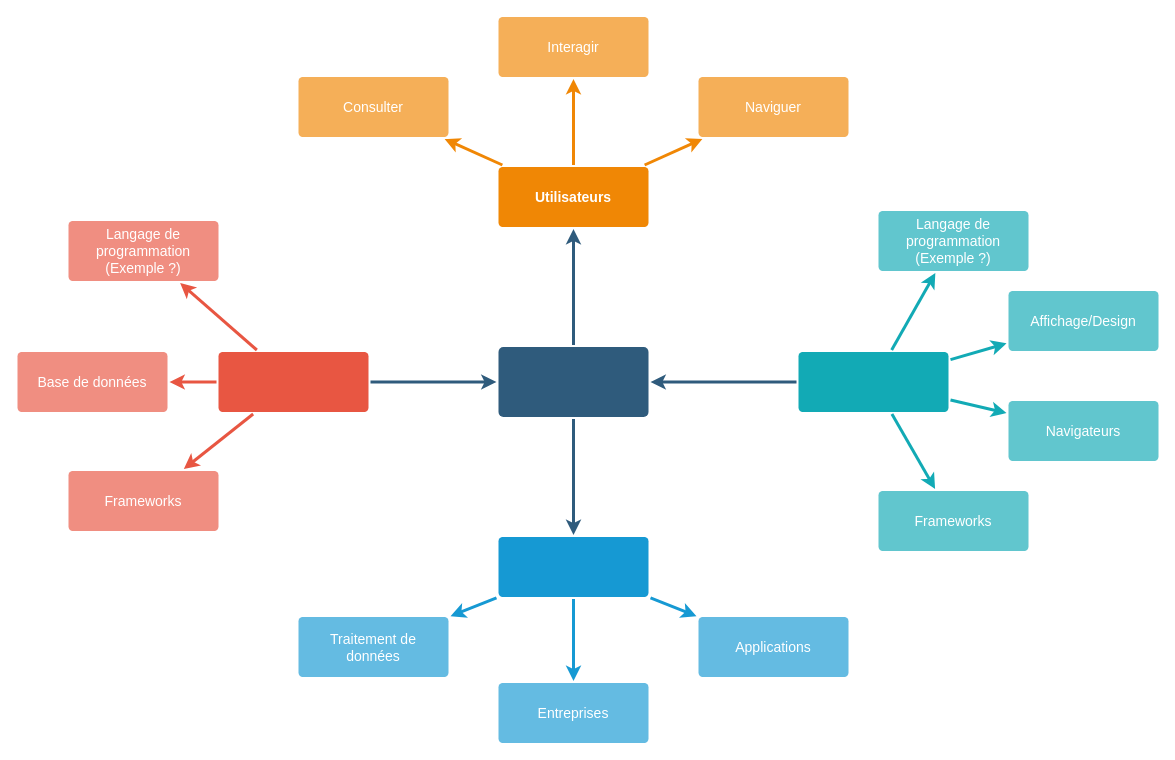
The diagram is 1175 pixels wide and 760 high, and some of its shapes have lost their labels. Each missing label, with the centre of its shape:
"Client" belongs at point (873, 382).
"Programmation Web" belongs at point (573, 381).
"Serveur" belongs at point (293, 382).
"Services" belongs at point (573, 566).
